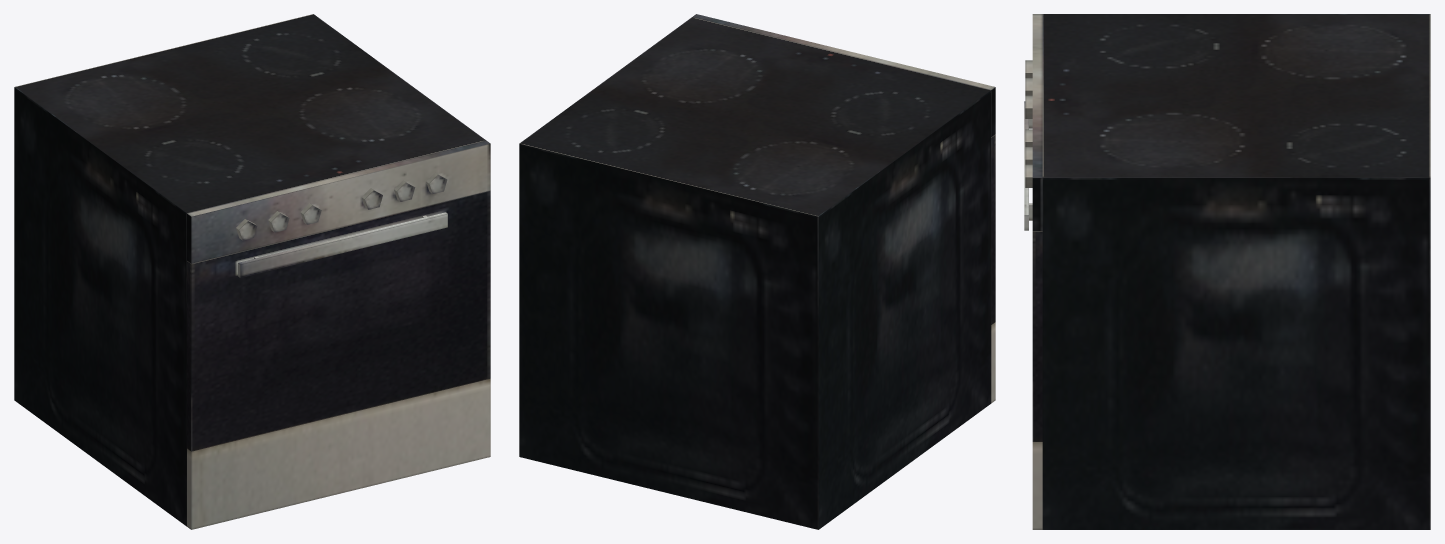
Rendered from StoveOven01.obj.
3 views of the same model, side by side, from view 1: azimuth 30°, elevation 25°; view 2: azimuth 150°, elevation 25°; view 3: azimuth 270°, elevation 25° (orthographic). The views are drawn at different scales.
Visible parts, largest first — view 1: StoveOven01, Stove.Door01, Stove.Drawer01; view 2: StoveOven01, Stove.Door01; view 3: StoveOven01, Stove.Door01, Stove.Drawer01.
Boxes of the visible parts, x1,y1,x2,y2 form: StoveOven01: [14, 14, 490, 526]; Stove.Door01: [187, 190, 490, 451]; Stove.Drawer01: [187, 378, 490, 529]; StoveOven01: [519, 14, 995, 529]; Stove.Door01: [991, 134, 995, 324]; StoveOven01: [1032, 14, 1430, 529]; Stove.Door01: [1024, 101, 1042, 441]; Stove.Drawer01: [1032, 442, 1042, 529].
Bounding box in the file's own units: 1.55 × 1.55 × 1.62.
